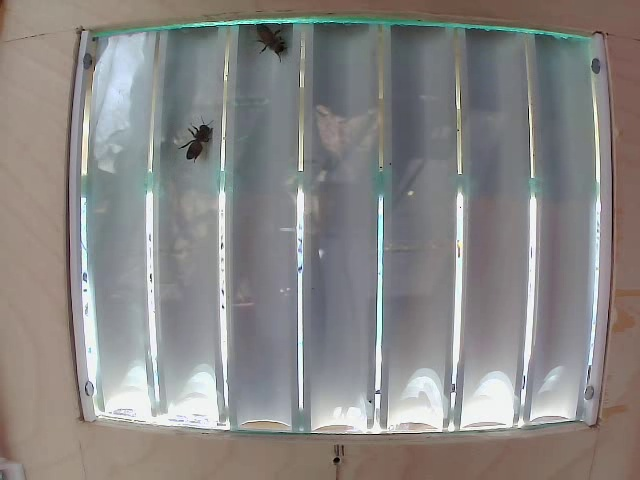bee: (250, 19, 287, 64), (183, 126, 216, 167)
